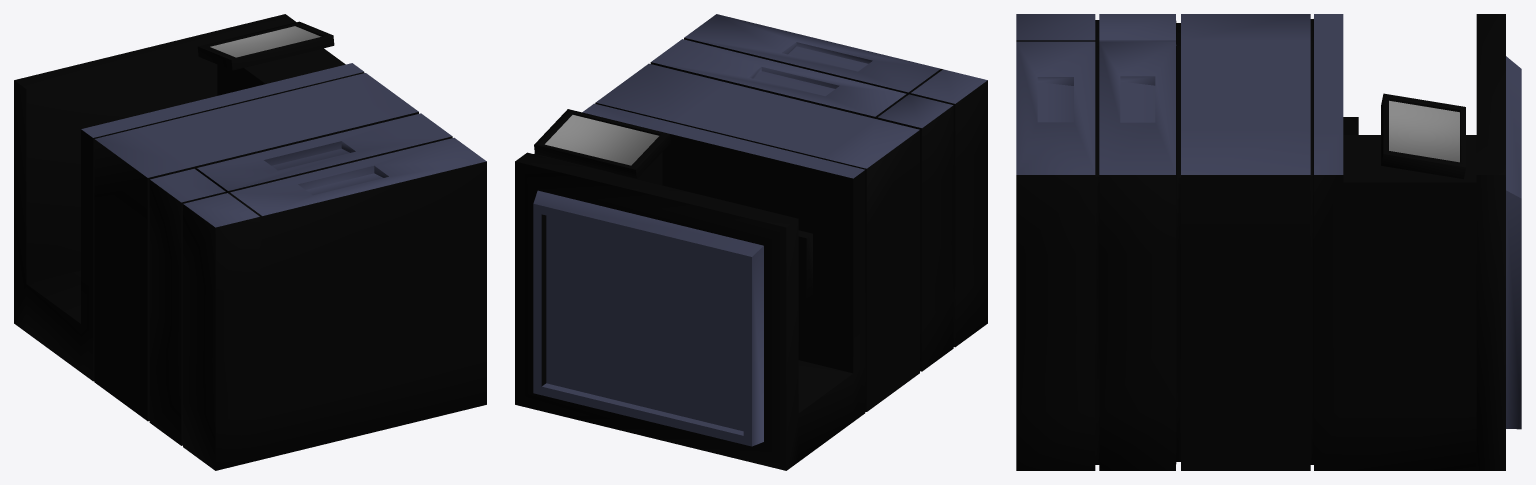
The picture shows the model from 3 angles, left to right: view 1: azimuth 30°, elevation 25°; view 2: azimuth 150°, elevation 25°; view 3: azimuth 270°, elevation 25°; orthographic projection. The views are drawn at different scales.
Visible parts, largest first — view 1: Cube; view 2: Cube; view 3: Cube.
Boxes of the visible parts, left/top/right/bottom form: Cube: left=14, top=14, right=486, bottom=470; Cube: left=515, top=14, right=987, bottom=470; Cube: left=1016, top=14, right=1521, bottom=470.
Size of the model in its own units: 70 by 63.97 by 92.87.
